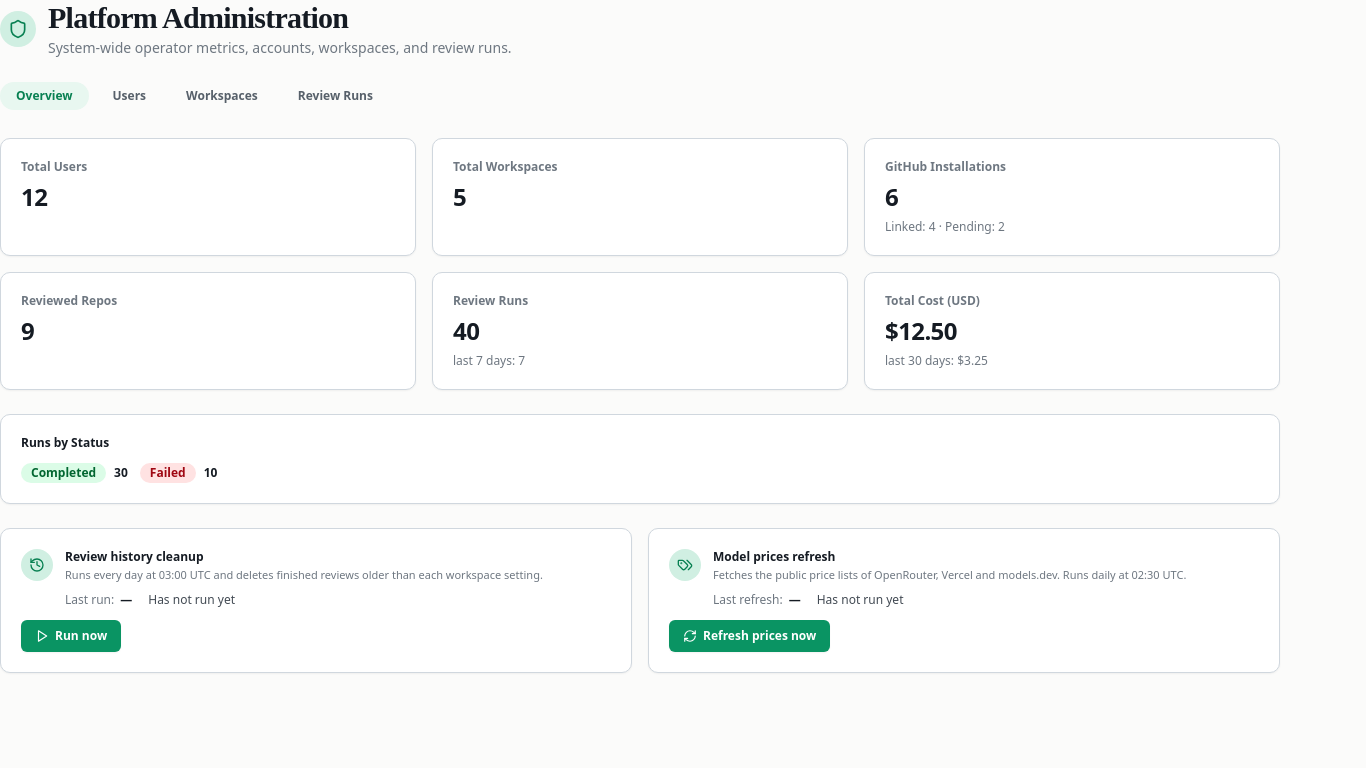
AdminPage › explains a refused delete when the user solely owns shared workspaces
Click the tab "Users": (129, 96) [96,82,162,110]
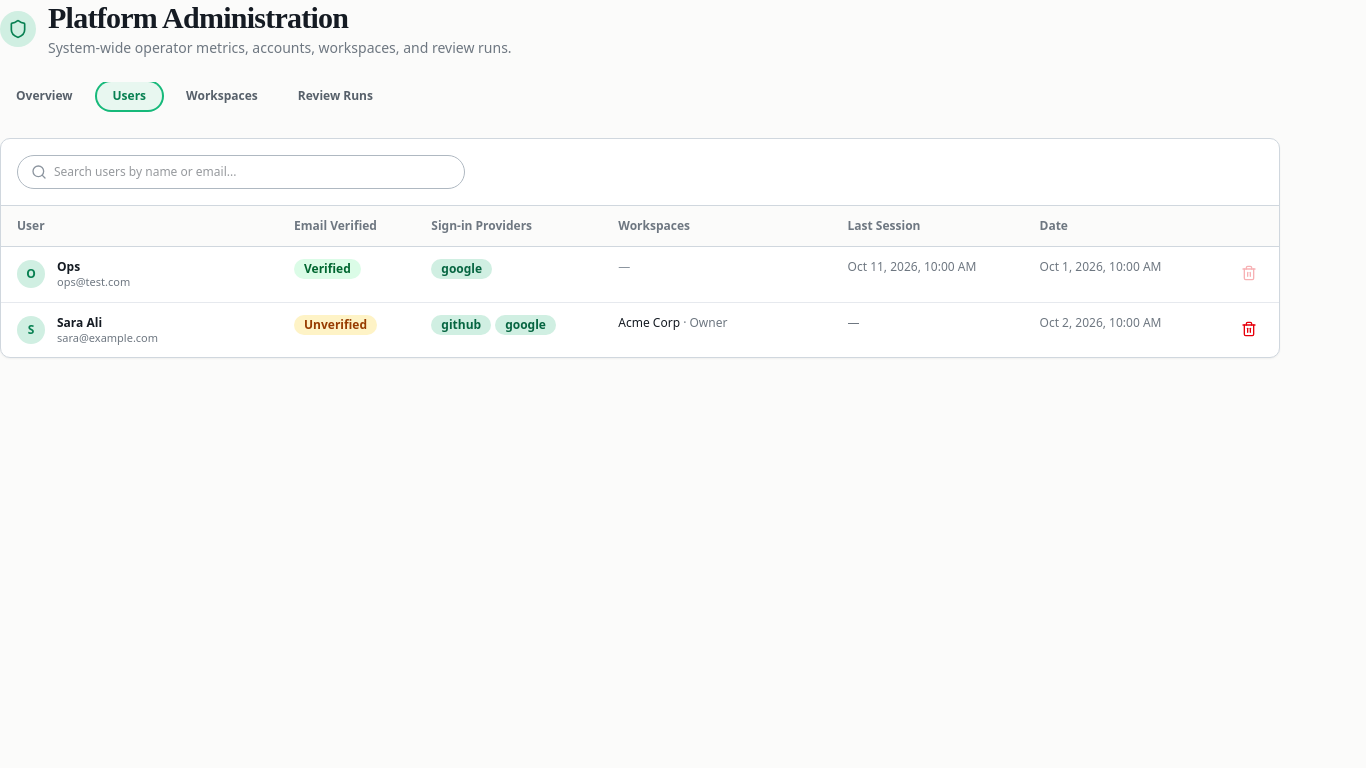
Now the text "Sara Ali" is shown, box [57,314,102,331]
Click the button named "Delete user: Sara Ali": (1249, 329) [1235,315,1263,343]
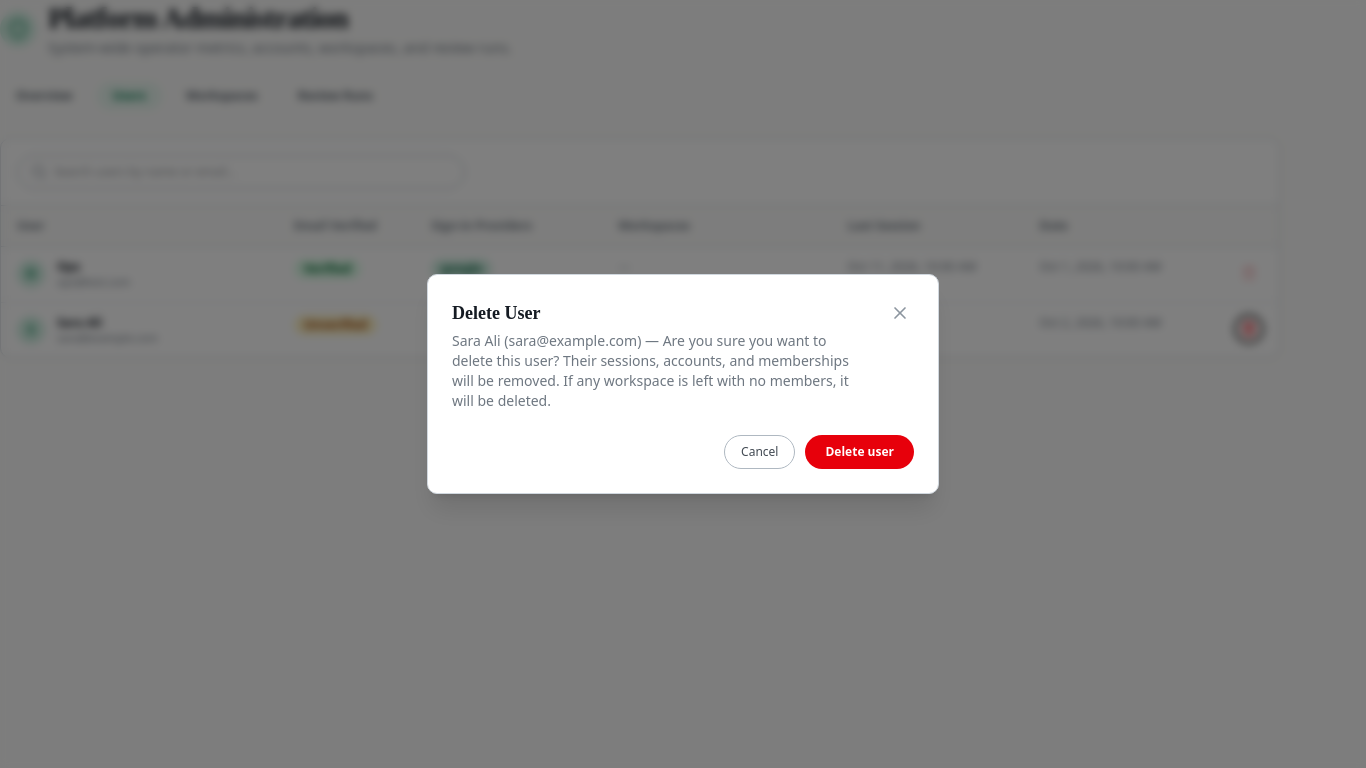
Click the button "Delete user": (860, 452) [806,435,914,469]
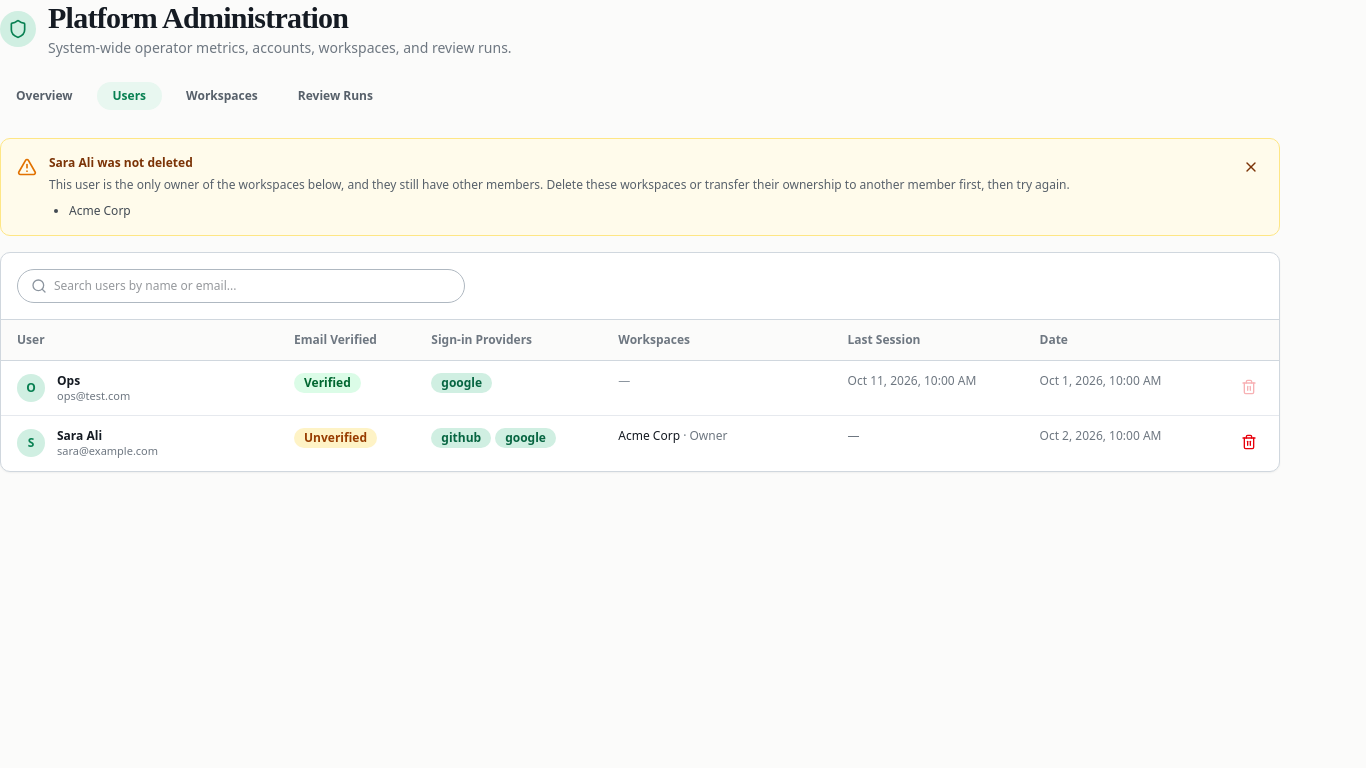
Now the text "Sara Ali was not deleted" is shown, box [49,154,193,171]
Now the text "transfer their ownership" is shown, box [49,176,1070,193]
Now the list item "Acme Corp" is shown, box [69,202,131,218]
Click the button named "Close": (1251, 167) [1239,155,1263,179]
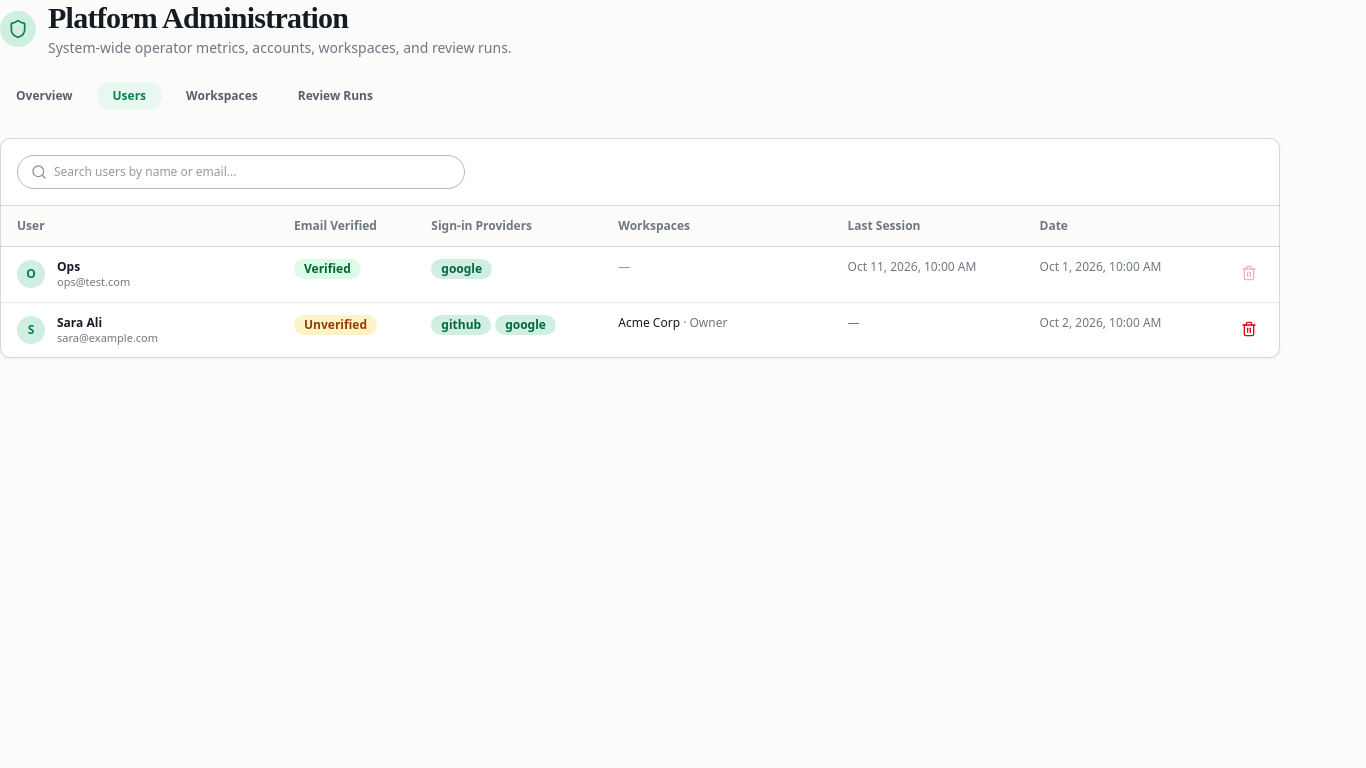
Now the message is gone
